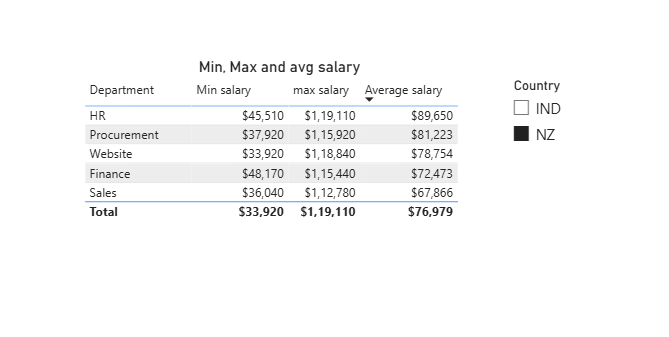

The page's visual inventory and layout, read from the dashboard file:
{"tool":"powerbi","page":{"name":"Q 4","canvas":[1280,720],"ordinal":3},"visuals":[{"type":"tableEx","fields":{"Values":["Data.Department","Data.Min salary","Data.max salary","Data.Average salary"]},"box":[33,80.7,396.2,190.8],"z":0},{"type":"slicer","fields":{"Values":["Data.Country"]},"box":[730,68.6,370.5,266.2],"z":1000}]}

Visuals, with their boxes on the page's 1280x720 design canvas (x1, y1, x2, y2). These are canvas units, not pixel positions in the 669x337 screenshot, which may show the page scaled, cropped or inside an application window:
tableEx - Data.Department x Data.Min salary: (x1=33, y1=81, x2=429, y2=272)
slicer - Data.Country: (x1=730, y1=69, x2=1100, y2=335)
